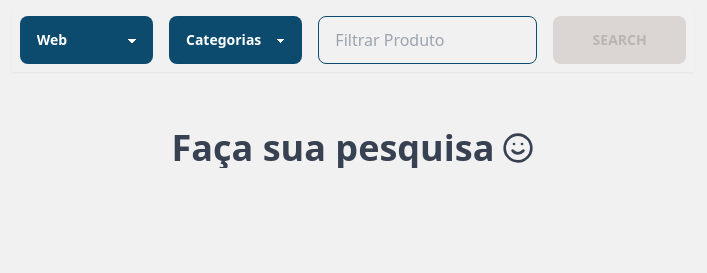
App tests › Renders one item after search with buscape
Select "BuscaPé" in the dropdown named "web" at (86, 40), box [20,16,153,64]
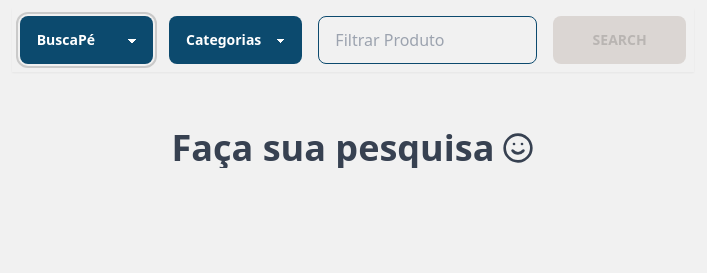
Select "Geladeira" in the dropdown named "categorias" at (236, 40), box [169,16,302,64]
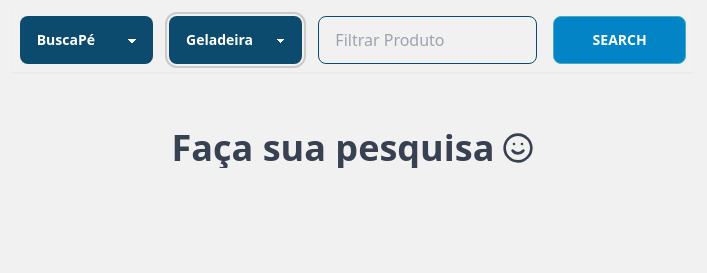
Click the button "Search".
click(620, 40)  # box [553,16,686,64]
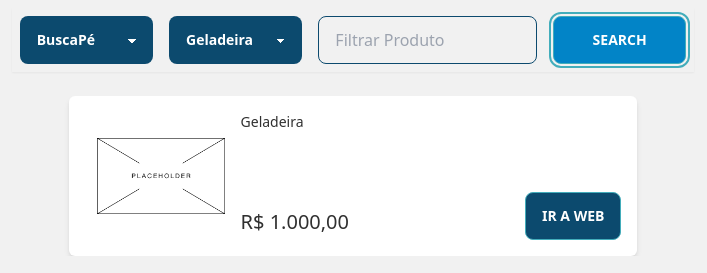
expect the heading "Geladeira" is shown: met, box [241,112,304,131]
expect the picture with test id "placeholder" is shown: met, box [97,138,225,214]
